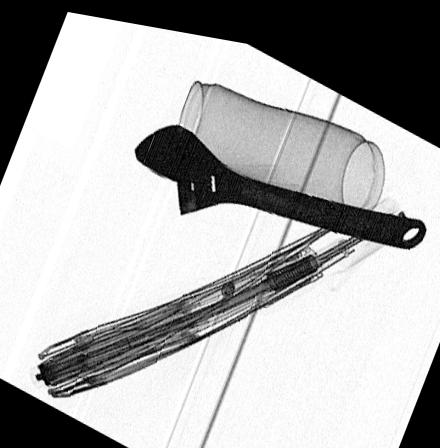Wrench: (135, 116, 425, 234)
